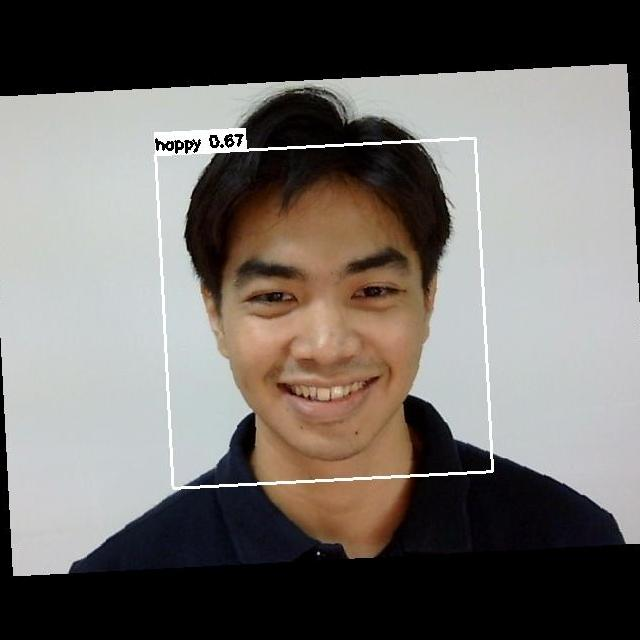Happy: (216, 228, 441, 425)
